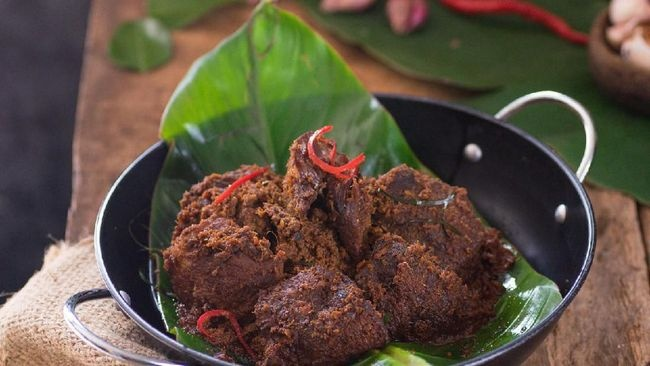rendang: (145, 137, 519, 353)
